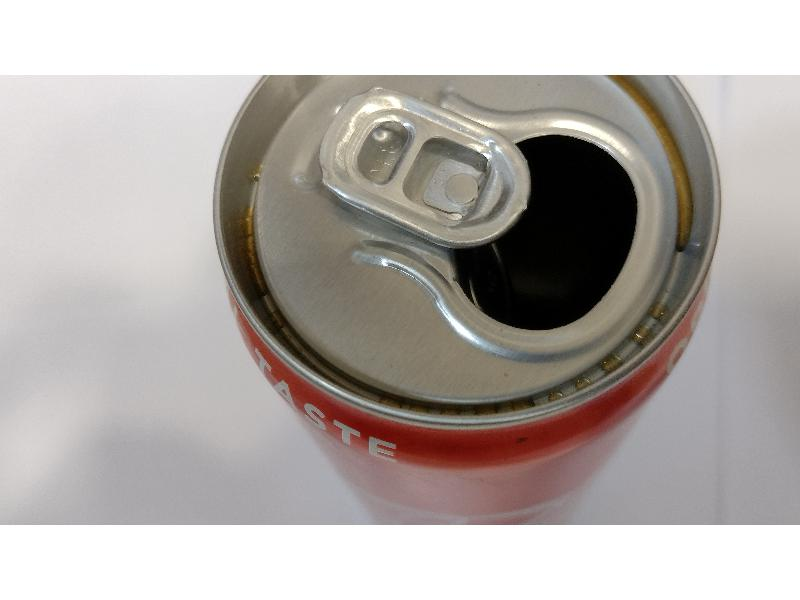can: (209, 74, 728, 507)
